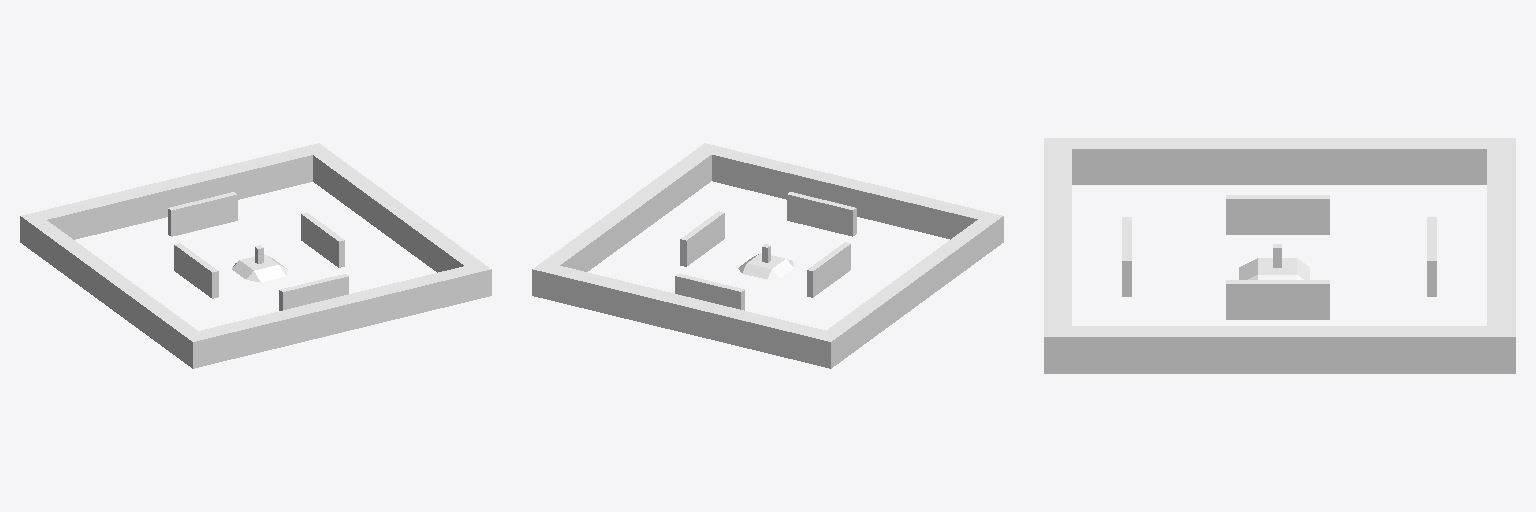
The robot description file, URDF, robot "simple_map_1.urdf":
<?xml version="0.0" ?>
<robot name="simple_map_1.urdf">
  <link concave="yes" name="baseLink">
    <inertial>
      <origin rpy="0 0 0" xyz="0 0 0"/>
       <mass value="0"/>
       <inertia ixx="0" ixy="0" ixz="0" iyy="0" iyz="0" izz="0" />
    </inertial>
    <visual>
      <origin rpy="1.5707963 0 0" xyz="0 0 0"/>
      <geometry>
		    <mesh filename="simple_map_1.obj" scale="1 1 1"/>
      </geometry>
		  <material name="white">
          <color rgba="1 1 1 1"/>
      </material>
    </visual>
    <collision concave="yes">
      <origin rpy="1.5707963 0 0" xyz="0 0 0"/>
      <geometry>
          <mesh filename="simple_map_1.obj" scale="1 1 1"/>
      </geometry>
    </collision>
  </link>
</robot>

--- What the picture shows (computed from the rendered views, not written in the file) ---
Views: 3 orthographic renders of the robot side by side, from view 1: azimuth 30°, elevation 25°; view 2: azimuth 150°, elevation 25°; view 3: azimuth 270°, elevation 25°.
Robot: simple_map_1.urdf — 1 links, 0 joints (none); root link baseLink; default pose: every joint at zero.
Visible links, largest first — view 1: baseLink; view 2: baseLink; view 3: baseLink.
Boxes of the visible links, x1,y1,x2,y2 form: baseLink: [20, 143, 491, 368]; baseLink: [532, 143, 1003, 368]; baseLink: [1044, 138, 1515, 373].
Bounding box of the posed robot: 9.02 × 9.02 × 0.774 m (x, y, z).
1 mesh visuals loaded from 1 distinct referenced files (1 OBJ).
